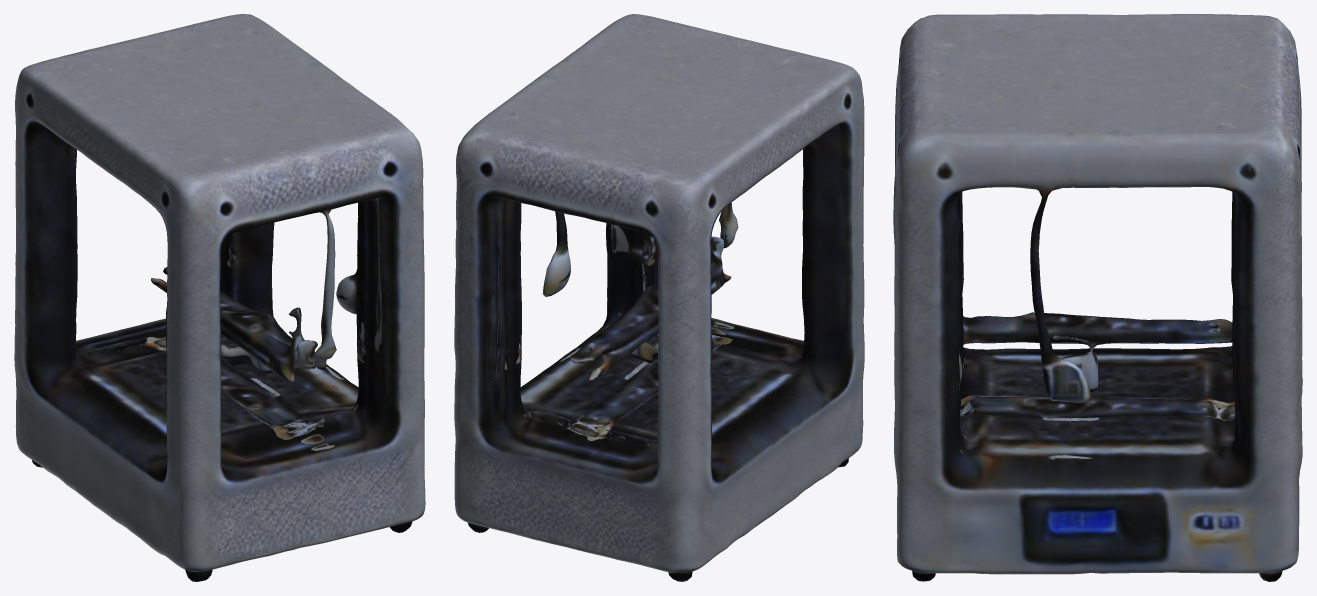
Rendered from 3dprinter.glb.
3 views of the same model, side by side, from view 1: azimuth 30°, elevation 25°; view 2: azimuth 150°, elevation 25°; view 3: azimuth 270°, elevation 25° (orthographic). The views are drawn at different scales.
Parts seen in each view (by area): view 1: mesh; view 2: mesh; view 3: mesh.
Part boxes in pixels (x1,y1,x2,y2): mesh: (14, 14, 425, 581); mesh: (454, 14, 864, 581); mesh: (893, 14, 1302, 581).
Size of the model in its own units: 0.6692 by 0.9992 by 0.8252.
Materials: 1 (1 with a texture image).
